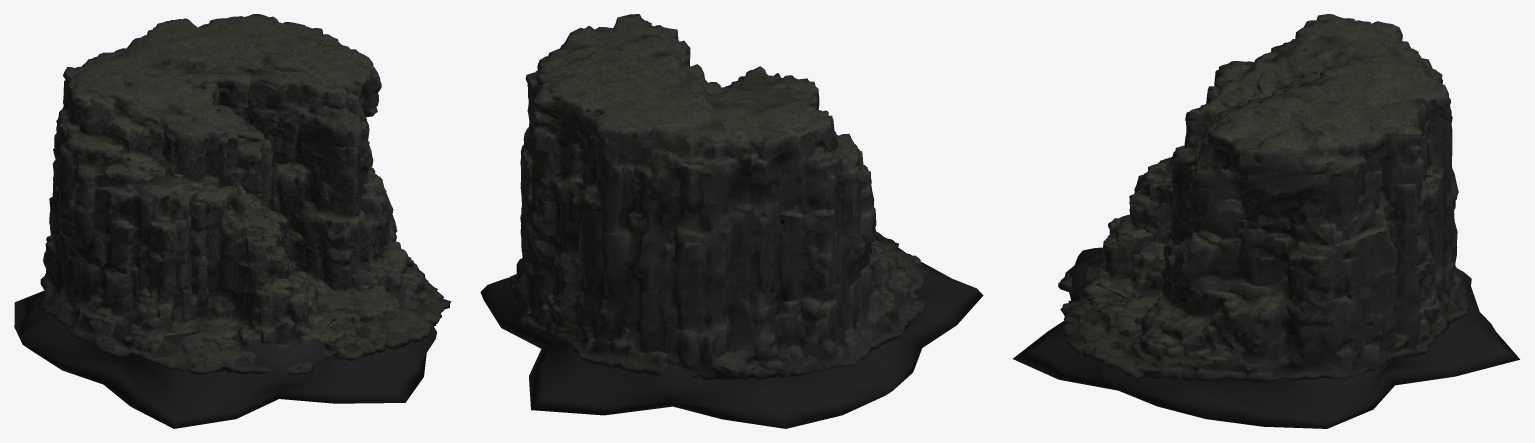
Rendered from fjord_cliff_wall_basalt.glb.
3 views of the same model, side by side, from view 1: azimuth 30°, elevation 25°; view 2: azimuth 150°, elevation 25°; view 3: azimuth 270°, elevation 25° (orthographic). The views are drawn at different scales.
Parts seen in each view (by area): view 1: FjordCliffWallBasalt; view 2: FjordCliffWallBasalt; view 3: FjordCliffWallBasalt.
Part boxes in pixels (x1,y1,x2,y2): FjordCliffWallBasalt: (14, 14, 451, 428); FjordCliffWallBasalt: (480, 14, 983, 428); FjordCliffWallBasalt: (1013, 14, 1519, 428).
Size of the model in its own units: 75.62 by 47.98 by 84.09.
1 material, 1 textured.
